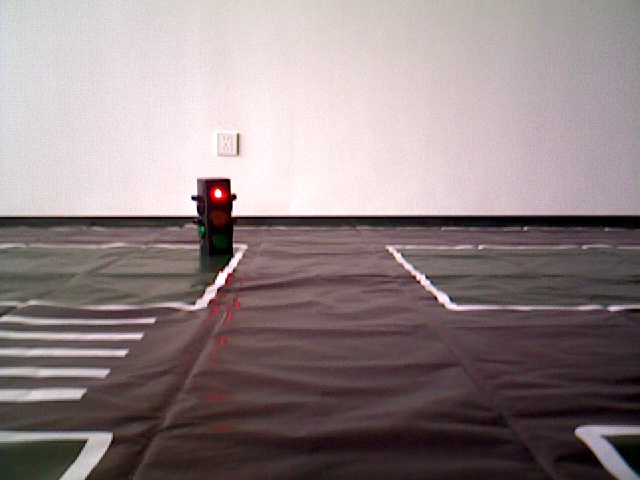red: (198, 182, 229, 254)
